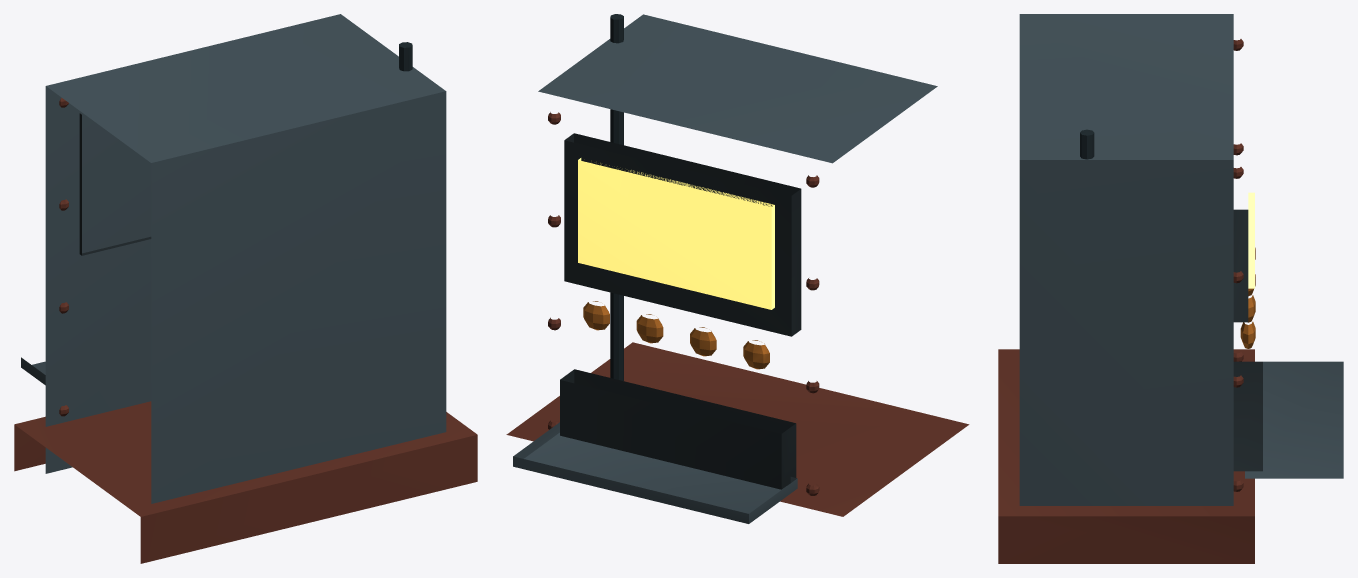
Rendered from trading_terminal.glb.
3 views of the same model, side by side, from view 1: azimuth 30°, elevation 25°; view 2: azimuth 150°, elevation 25°; view 3: azimuth 270°, elevation 25° (orthographic).
Visible parts, largest first — view 1: RailTradingTerminal_Mesh; view 2: RailTradingTerminal_Mesh; view 3: RailTradingTerminal_Mesh.
Part boxes in pixels (bbox=[...]): RailTradingTerminal_Mesh: bbox=[14, 14, 477, 563]; RailTradingTerminal_Mesh: bbox=[506, 14, 969, 523]; RailTradingTerminal_Mesh: bbox=[998, 14, 1343, 563].
Size of the model in its own units: 1.2 by 1.4 by 1.05.
